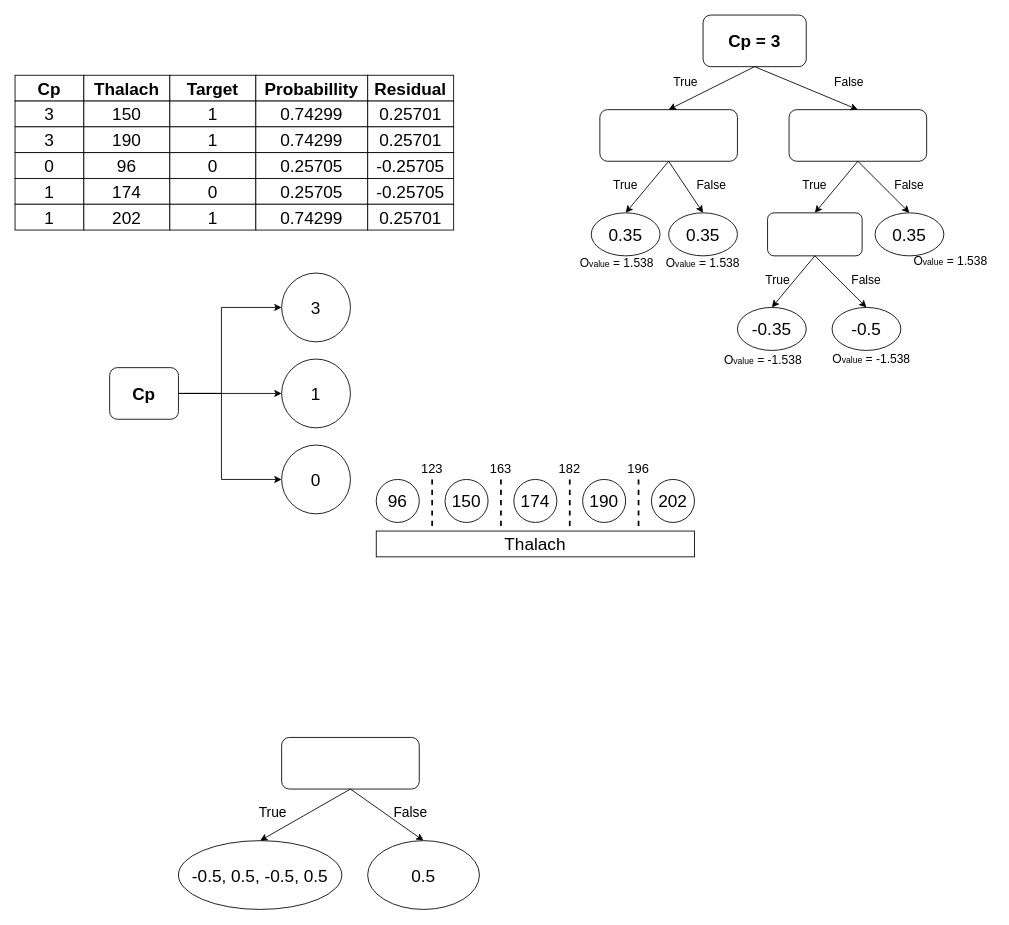
Some shapes in this 1009 by 925 pixel diagram are drawn without their labels. The box of each missing label's shape, as (x1, y1, x2, y2) in pixels:
Cp = 0: (767, 212, 862, 256)
Thalach < 170: (599, 109, 737, 161)
Thalach < 188: (788, 109, 927, 161)
Thalach < 196: (281, 737, 419, 789)
